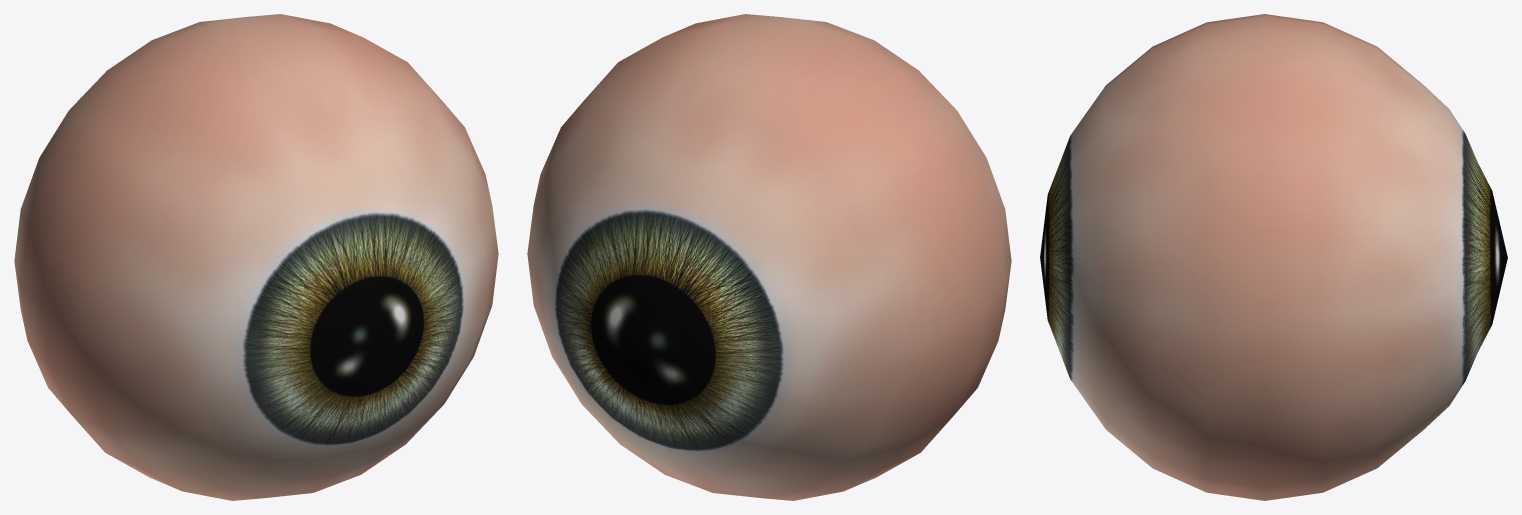
Rendered from Human_Eye.obj.
3 views of the same model, side by side, from view 1: azimuth 30°, elevation 25°; view 2: azimuth 150°, elevation 25°; view 3: azimuth 270°, elevation 25° (orthographic).
Visible parts, largest first — view 1: Object__3; view 2: Object__3; view 3: Object__3.
Boxes of the visible parts, x1,y1,x2,y2 form: Object__3: (14,14,498,500); Object__3: (527,14,1011,500); Object__3: (1040,14,1507,500).
Bounding box in the file's own units: 0.3774 × 0.3774 × 0.3612.
